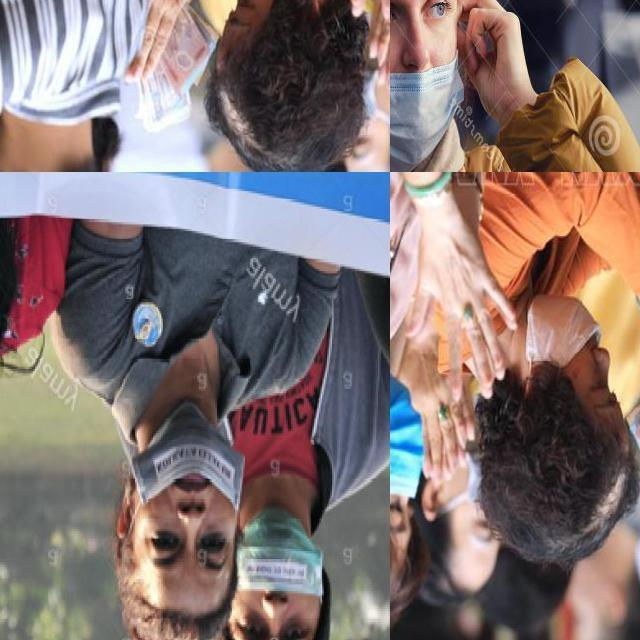hairnet: (131, 427, 236, 531), (390, 38, 460, 165), (528, 295, 610, 386), (236, 520, 313, 613)
